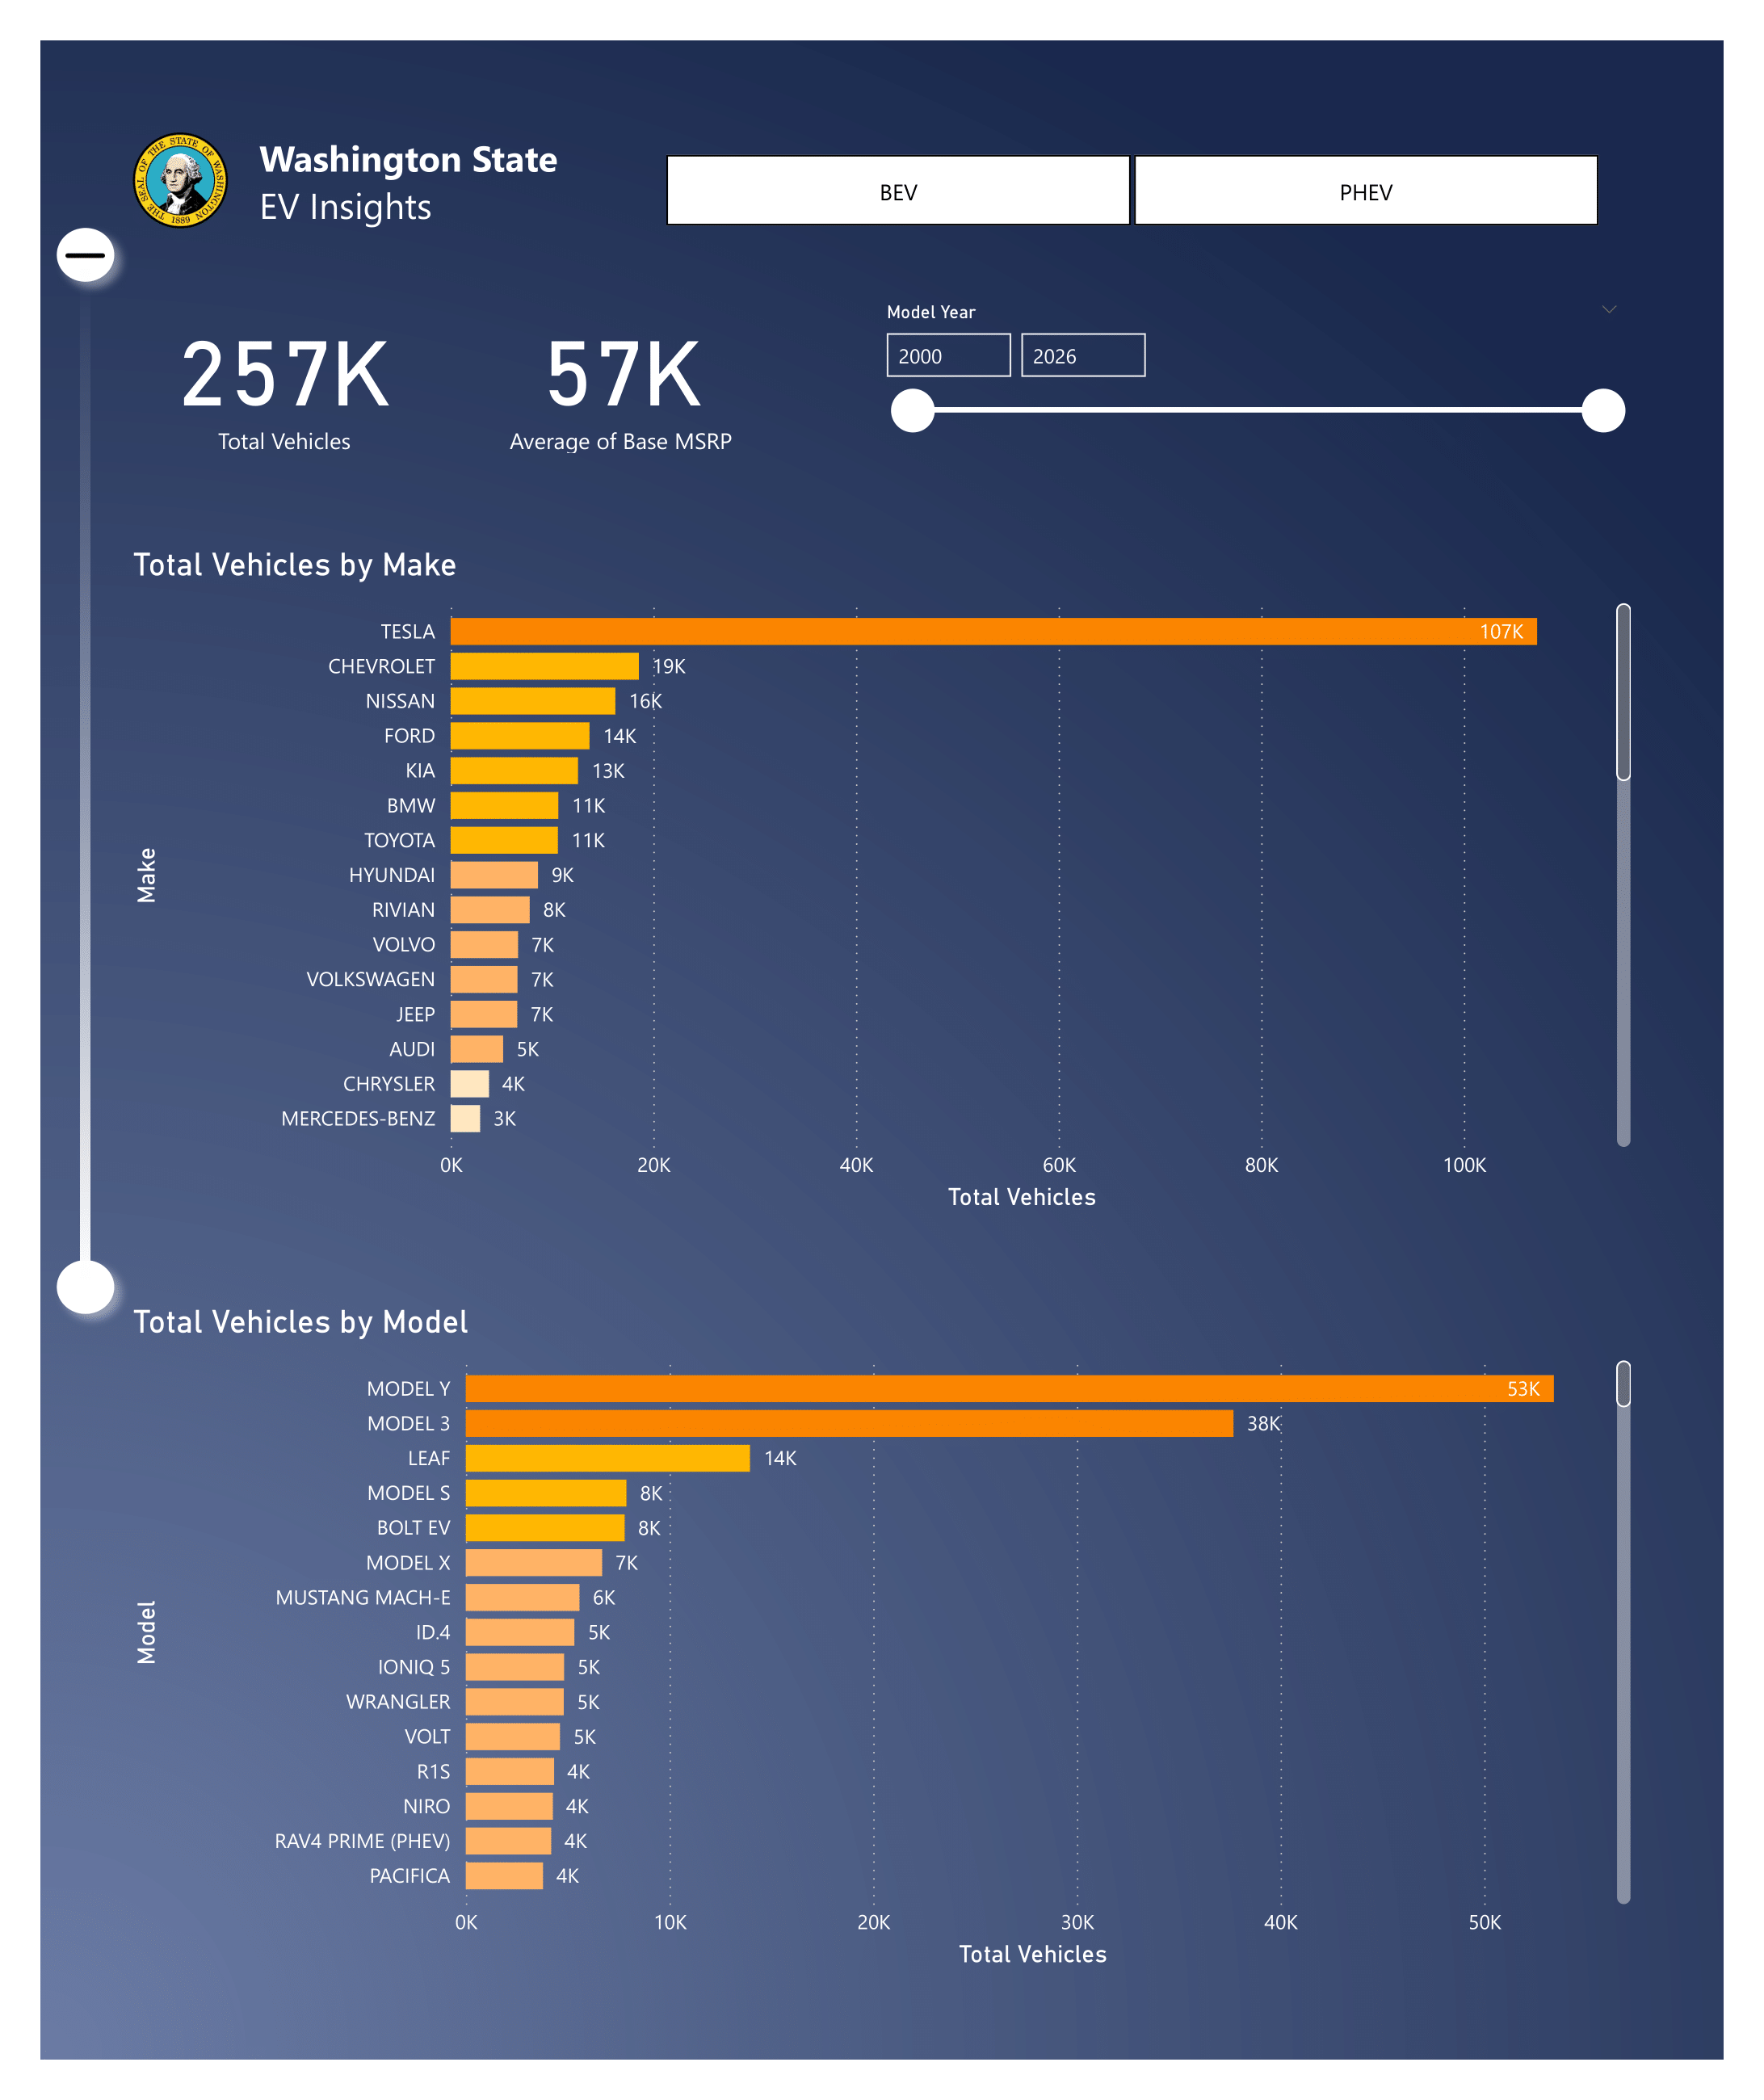

The page's visual inventory and layout, read from the dashboard file:
{"tool":"powerbi","page":{"name":"Top Models","canvas":[1000,1200],"ordinal":4},"visuals":[{"type":"actionButton","title":"tree","box":[6,108,50,660],"z":0},{"type":"clusteredBarChart","fields":{"Category":["Electric_Vehicle_Population_Data.Model"],"Y":["Electric_Vehicle_Population_Data.Total Vehicles"]},"box":[50,750,900,400],"z":1000},{"type":"clusteredBarChart","fields":{"Y":["Electric_Vehicle_Population_Data.Total Vehicles"],"Category":["Electric_Vehicle_Population_Data.Make"]},"box":[50,300,900,400],"z":2000},{"type":"slicer","fields":{"Values":["Electric_Vehicle_Population_Data.Electric Vehicle Type"]},"box":[345.7,61.4,604.3,55.7],"z":3000},{"type":"slicer","fields":{"Values":["Electric_Vehicle_Population_Data.Model Year"]},"box":[490,150,460,104.3],"z":4000},{"type":"card","fields":{"Values":["Electric_Vehicle_Population_Data.Total Vehicles"]},"box":[50,150,190,100],"z":5000},{"type":"card","fields":{"Values":["Avg(Electric_Vehicle_Population_Data.Base MSRP)"]},"box":[250,150,190,100],"z":6000},{"type":"image","box":[50,50,67,67],"z":7000},{"type":"textbox","box":[134.3,50,191.4,78.6],"z":8000},{"type":"actionButton","title":"minus","box":[15,116.7,23.3,22.5],"z":9000}]}

Visuals, with their boxes on the page's 1000x1200 design canvas (x1, y1, x2, y2). These are canvas units, not pixel positions in the 1764x2100 screenshot, which may show the page scaled, cropped or inside an application window:
"tree" actionButton: {"left": 6, "top": 108, "right": 56, "bottom": 768}
clusteredBarChart - Electric_Vehicle_Population_Data.Model x Electric_Vehicle_Population_Data.Total Vehicles: {"left": 50, "top": 750, "right": 950, "bottom": 1150}
clusteredBarChart - Electric_Vehicle_Population_Data.Total Vehicles x Electric_Vehicle_Population_Data.Make: {"left": 50, "top": 300, "right": 950, "bottom": 700}
slicer - Electric_Vehicle_Population_Data.Electric Vehicle Type: {"left": 346, "top": 61, "right": 950, "bottom": 117}
slicer - Electric_Vehicle_Population_Data.Model Year: {"left": 490, "top": 150, "right": 950, "bottom": 254}
card - Electric_Vehicle_Population_Data.Total Vehicles: {"left": 50, "top": 150, "right": 240, "bottom": 250}
card - Avg(Electric_Vehicle_Population_Data.Base MSRP): {"left": 250, "top": 150, "right": 440, "bottom": 250}
image: {"left": 50, "top": 50, "right": 117, "bottom": 117}
textbox: {"left": 134, "top": 50, "right": 326, "bottom": 129}
"minus" actionButton: {"left": 15, "top": 117, "right": 38, "bottom": 139}
